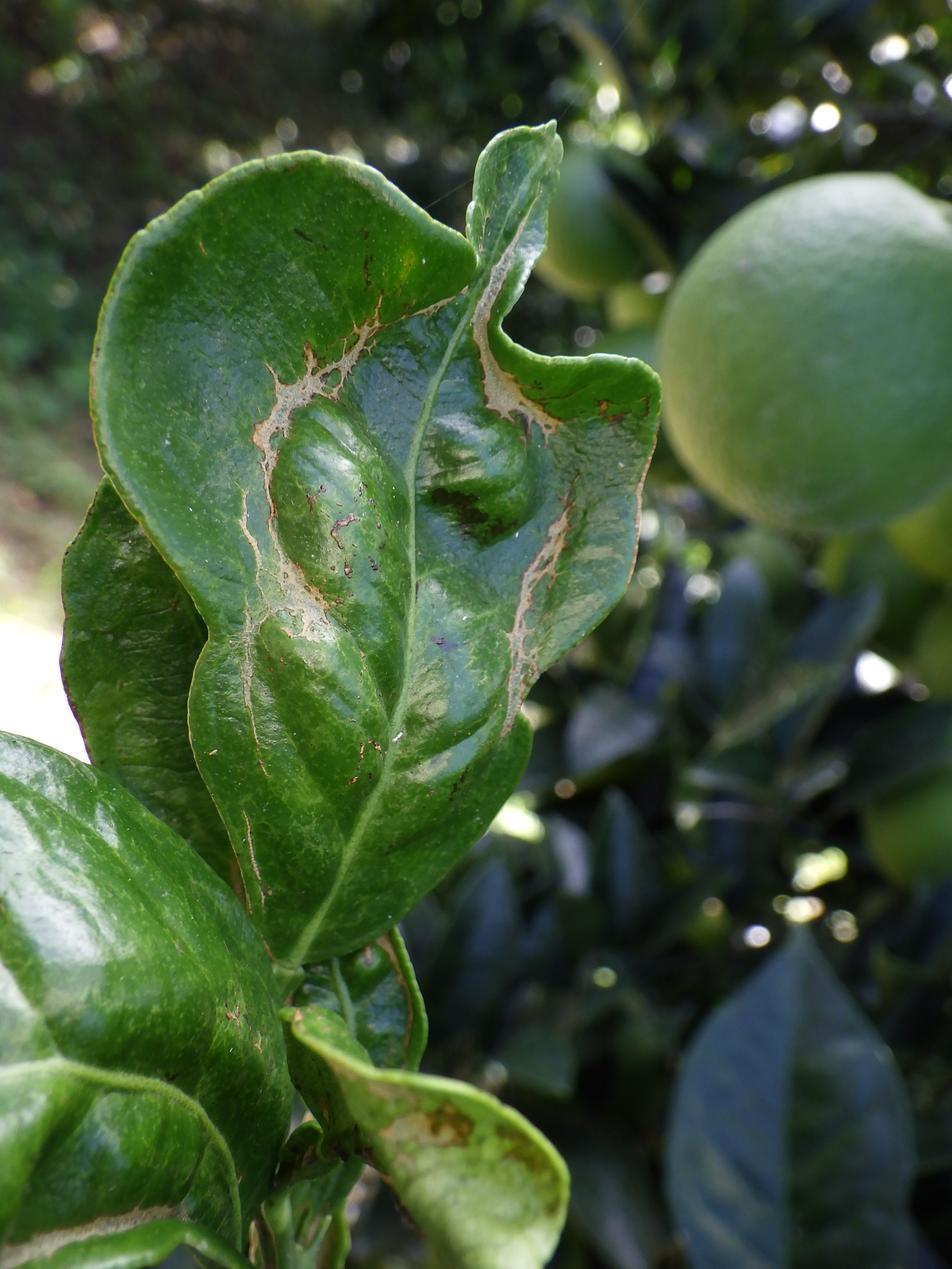Thrips_Damage: (237, 204, 574, 734)
